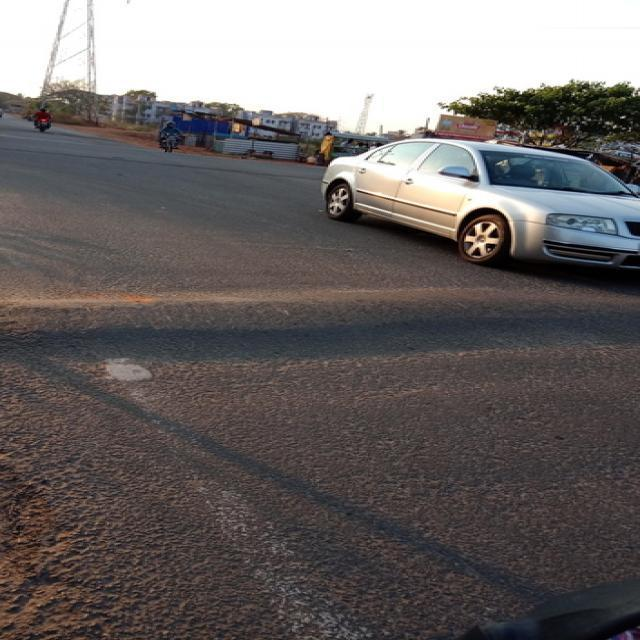NonMarked Bump: (20, 283, 637, 355)
